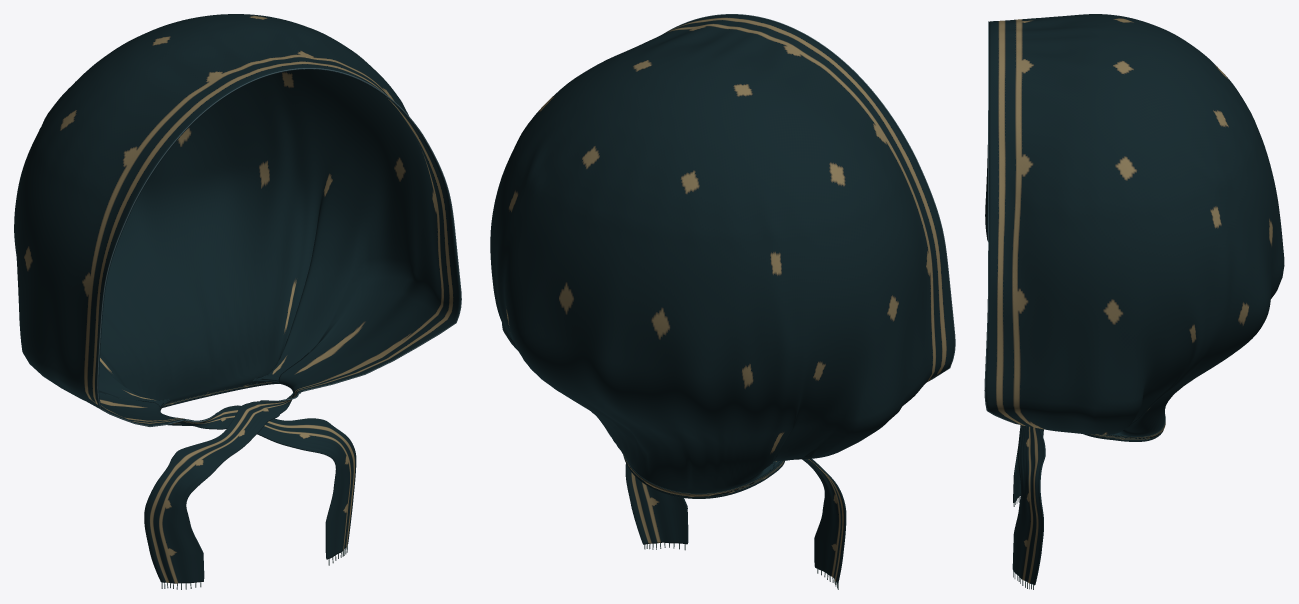
Rendered from Masculine-buzz-jersey-pashmina249-headgear.glb.
The picture shows the model from 3 angles, left to right: view 1: azimuth 30°, elevation 25°; view 2: azimuth 150°, elevation 25°; view 3: azimuth 270°, elevation 25°; orthographic projection. The views are drawn at different scales.
Visible parts, largest first — view 1: 226 headgear / Headwear / continuous woven pashmina239, 226 headgear / Headwear / face edge239; view 2: 226 headgear / Headwear / continuous woven pashmina239, 226 headgear / Headwear / face edge239; view 3: 226 headgear / Headwear / continuous woven pashmina239, 226 headgear / Headwear / face edge239.
Boxes of the visible parts, x1=… form: 226 headgear / Headwear / continuous woven pashmina239: x1=14, y1=14, x2=460, y2=583; 226 headgear / Headwear / face edge239: x1=97, y1=68, x2=461, y2=426; 226 headgear / Headwear / continuous woven pashmina239: x1=490, y1=14, x2=954, y2=583; 226 headgear / Headwear / face edge239: x1=664, y1=14, x2=955, y2=381; 226 headgear / Headwear / continuous woven pashmina239: x1=985, y1=14, x2=1284, y2=585; 226 headgear / Headwear / face edge239: x1=984, y1=21, x2=1018, y2=424.
Size of the model in its own units: 1.03 by 1.35 by 0.7152.
Materials: 3 (1 with a texture image).
